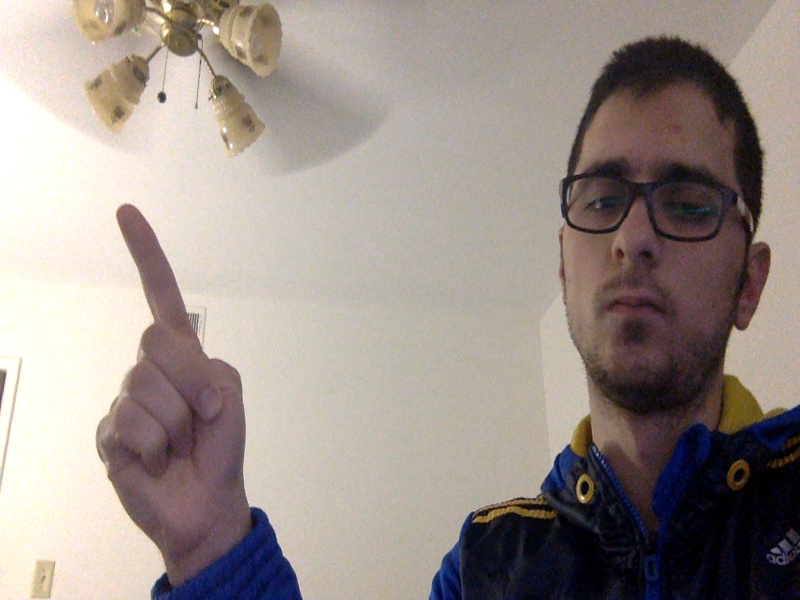1-hand: (96, 206, 248, 551)
